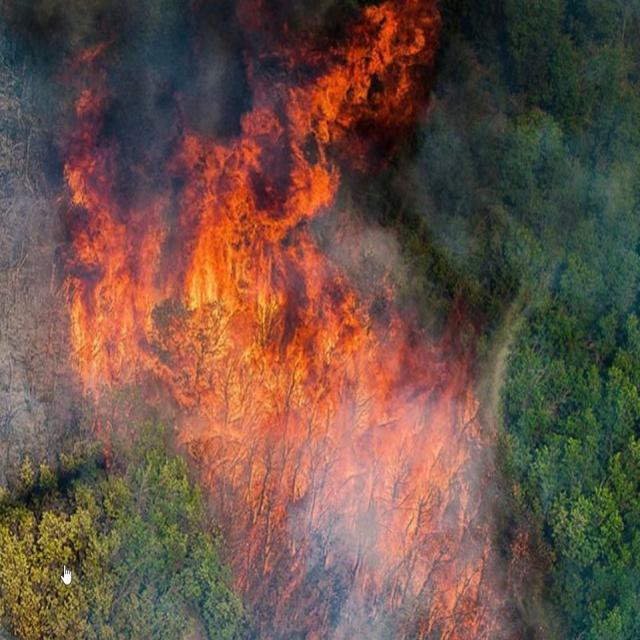Fire: (88, 87, 516, 614)
